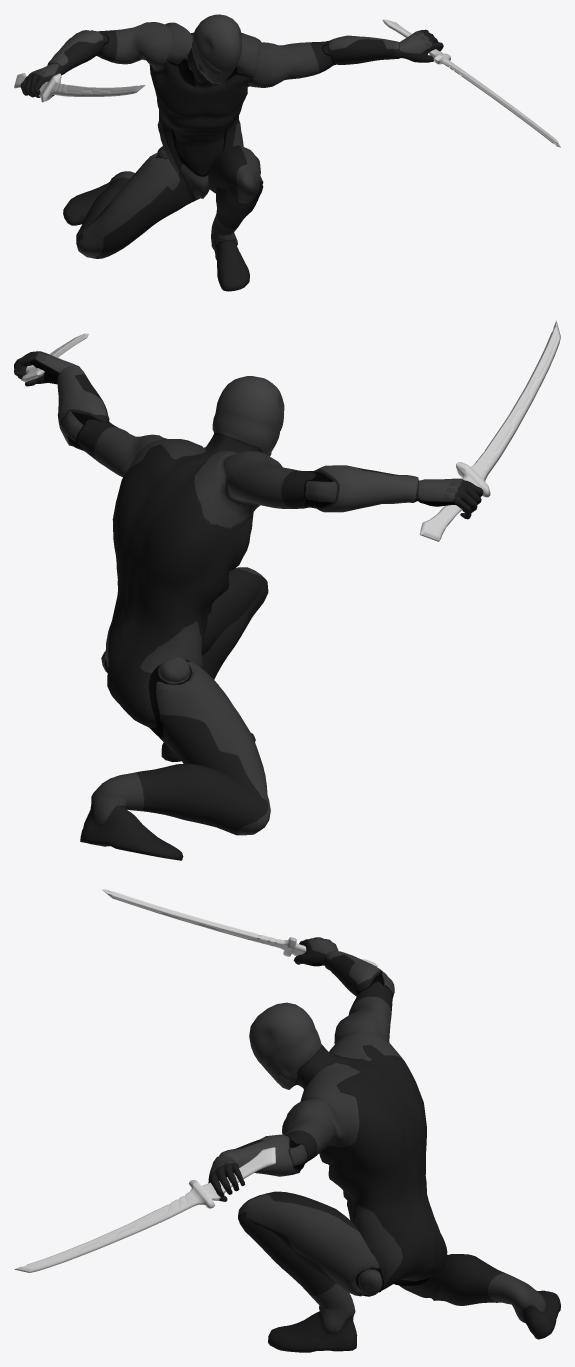
The picture shows the model from 3 angles, top to bottom: view 1: azimuth 30°, elevation 25°; view 2: azimuth 150°, elevation 25°; view 3: azimuth 270°, elevation 25°; orthographic projection. The views are drawn at different scales.
Parts seen in each view (by area): view 1: Cyborg_Ninja_Killer, Sword_l001, Sword_l; view 2: Cyborg_Ninja_Killer, Sword_l001; view 3: Cyborg_Ninja_Killer, Sword_l, Sword_l001.
Part boxes in pixels (bbox=[...]): Cyborg_Ninja_Killer: bbox=[20, 14, 443, 291]; Sword_l001: bbox=[14, 73, 145, 102]; Sword_l: bbox=[382, 19, 560, 147]; Cyborg_Ninja_Killer: bbox=[14, 351, 483, 860]; Sword_l001: bbox=[420, 320, 560, 541]; Cyborg_Ninja_Killer: bbox=[208, 937, 560, 1352]; Sword_l: bbox=[14, 1147, 275, 1272]; Sword_l001: bbox=[102, 889, 377, 966].
Size of the model in its own units: 176 by 120 by 166.
